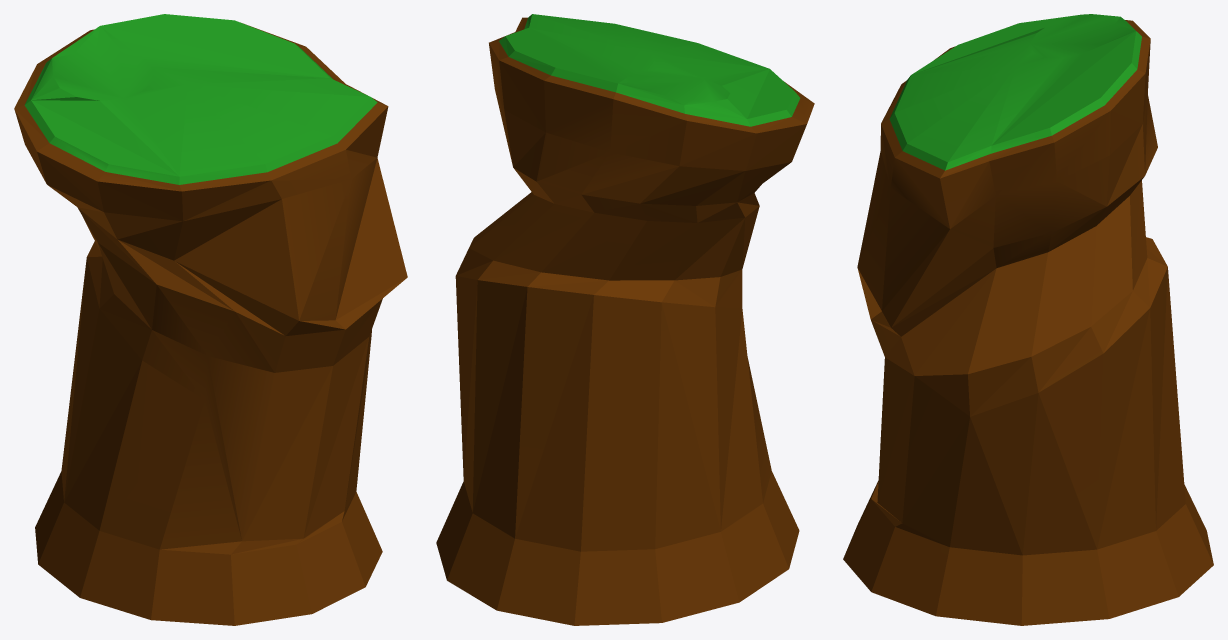
The model's file is Terrain_Bluff_Grass_02.fbx.
3 renders of one model, left to right at view 1: azimuth 30°, elevation 25°; view 2: azimuth 150°, elevation 25°; view 3: azimuth 270°, elevation 25°, orthographic. The views are drawn at different scales.
Visible parts, largest first — view 1: Terrain_Bluff_Grass_02; view 2: Terrain_Bluff_Grass_02; view 3: Terrain_Bluff_Grass_02.
Boxes of the visible parts, x1,y1,x2,y2 form: Terrain_Bluff_Grass_02: [14, 14, 407, 625]; Terrain_Bluff_Grass_02: [436, 14, 814, 625]; Terrain_Bluff_Grass_02: [843, 14, 1213, 625].
Size of the model in its own units: 15950 by 23322 by 15795.
